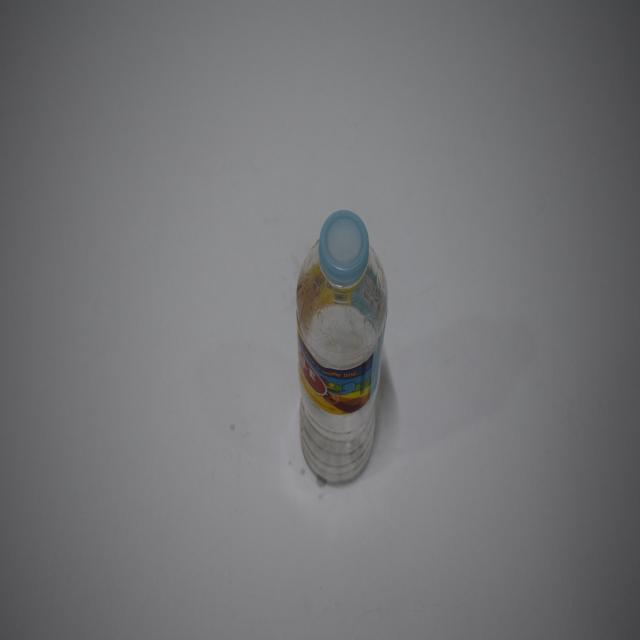bottle: (296, 198, 392, 502)
